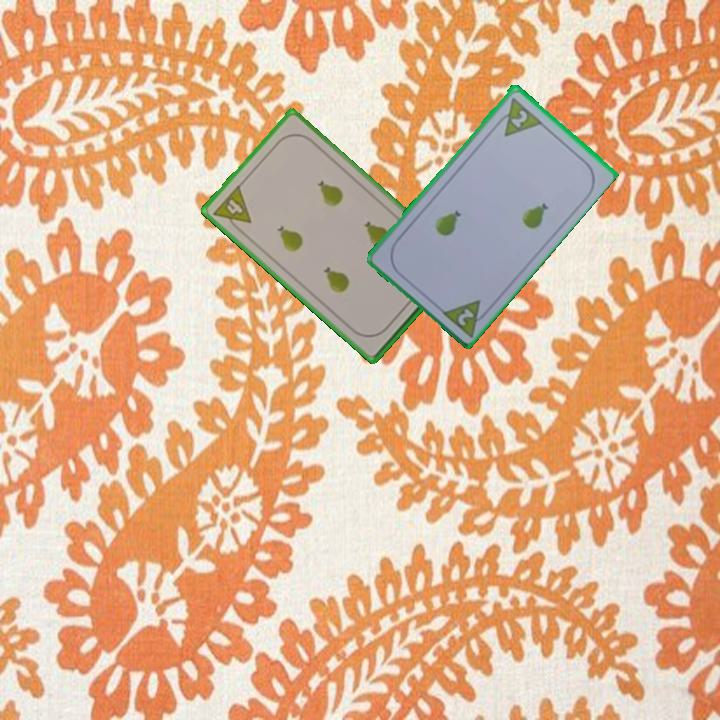2p: (437, 295, 494, 339), (507, 105, 531, 130)
4p: (209, 181, 254, 236)
